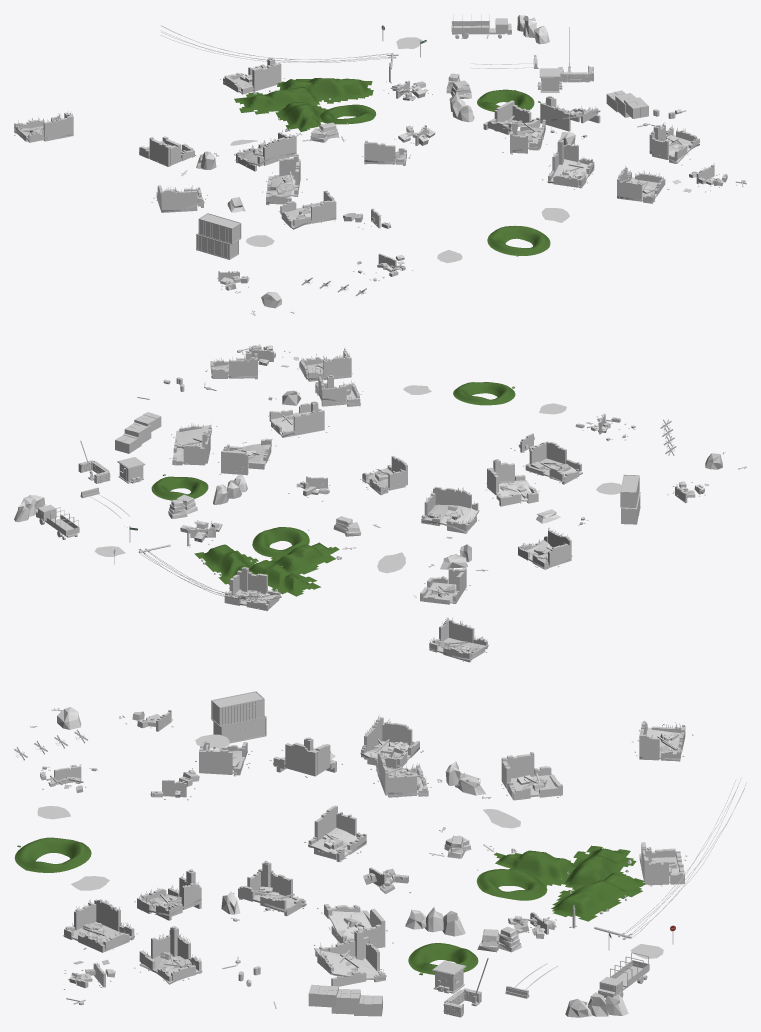
File: outdoor_23.glb
3 views of the same model, one above another, from view 1: azimuth 30°, elevation 25°; view 2: azimuth 150°, elevation 25°; view 3: azimuth 270°, elevation 25° (orthographic). The views are drawn at different scales.
Parts seen in each view (by area): view 1: gas_station_town; view 2: gas_station_town; view 3: gas_station_town.
Boxes of the visible parts, x1,y1,x2,y2 form: gas_station_town: [14, 14, 746, 315]; gas_station_town: [14, 344, 746, 662]; gas_station_town: [14, 691, 746, 1017].
Bounding box in the file's own units: 90.83 × 10.06 × 90.23.
3 materials, 2 textured.
